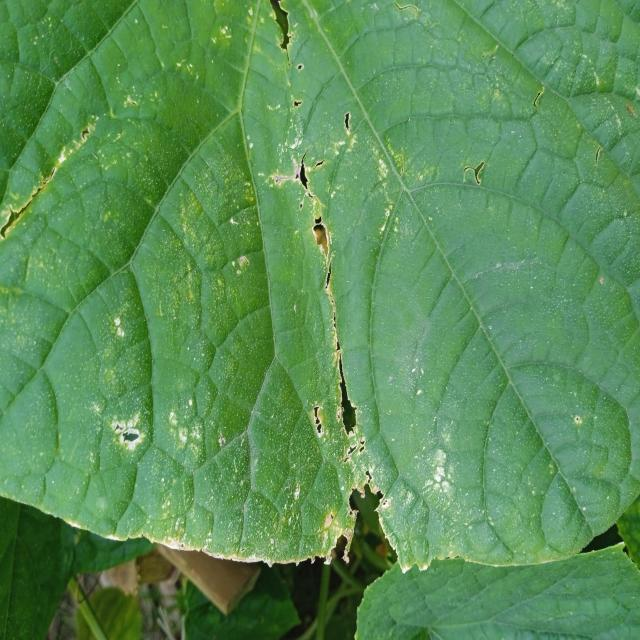cucumber_anthracnose: (22, 18, 636, 584)
